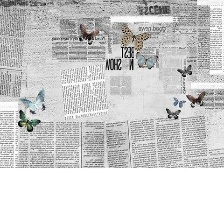news_paper: (0, 0, 224, 169)
